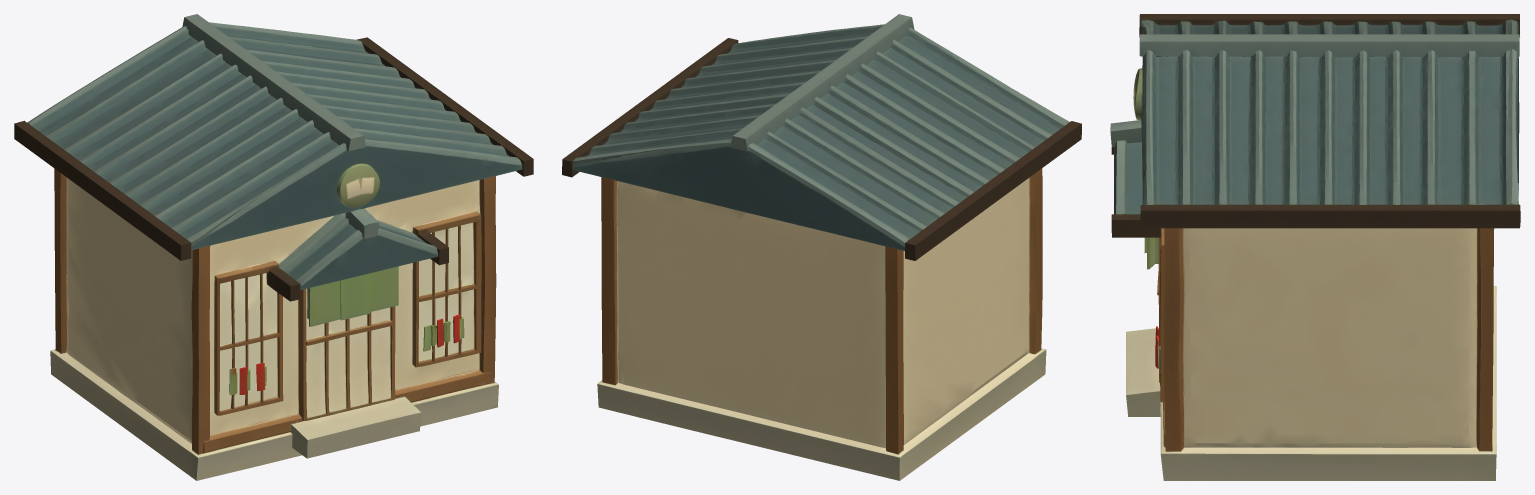
File: source.glb
3 renders of one model, left to right at view 1: azimuth 30°, elevation 25°; view 2: azimuth 150°, elevation 25°; view 3: azimuth 270°, elevation 25°, orthographic. The views are drawn at different scales.
Visible parts, largest first — view 1: model; view 2: model; view 3: model.
Boxes of the visible parts, left/top/right/bottom form: model: left=14, top=14, right=533, bottom=480; model: left=562, top=14, right=1081, bottom=480; model: left=1110, top=14, right=1520, bottom=480.
Bounding box in the file's own units: 1.89 × 1.61 × 1.67.
1 material, 1 textured.
